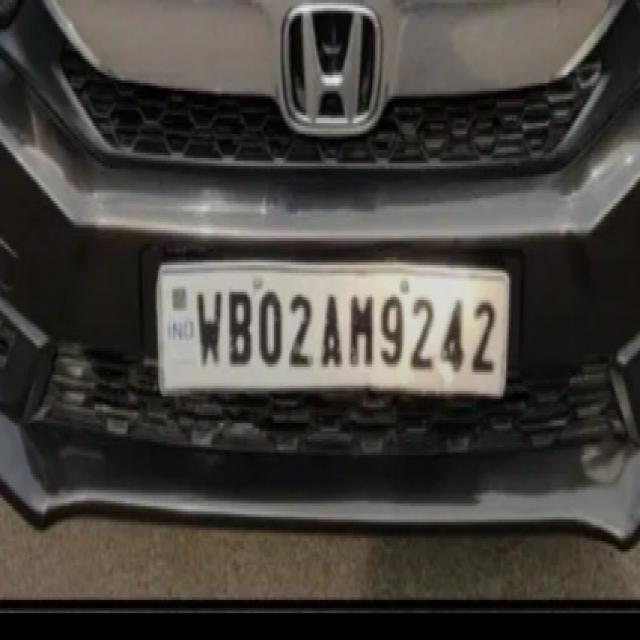0: (256, 286, 285, 369)
4: (439, 292, 468, 382)
9: (377, 284, 409, 380)
A: (318, 292, 347, 386)
B: (224, 287, 253, 371)
M: (348, 286, 375, 372)
W: (192, 285, 225, 369)
